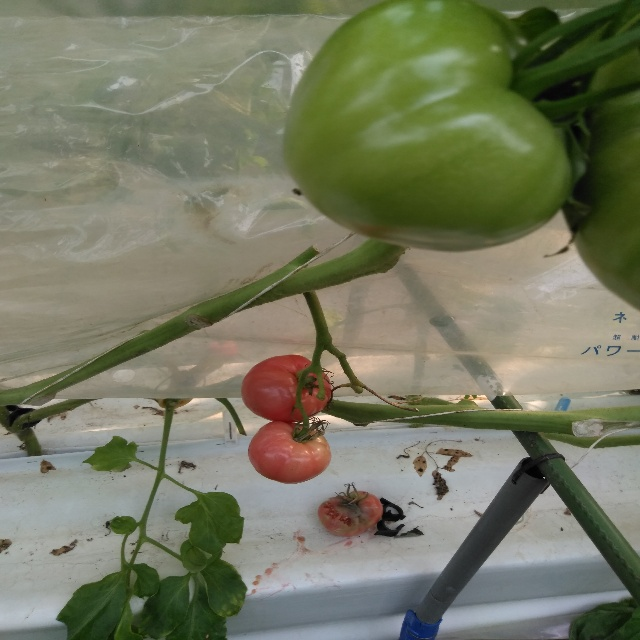b_fully_ripened: (241, 355, 332, 422)
b_green: (283, 0, 572, 252), (561, 43, 640, 312)
b_half_ripened: (248, 420, 332, 484)
